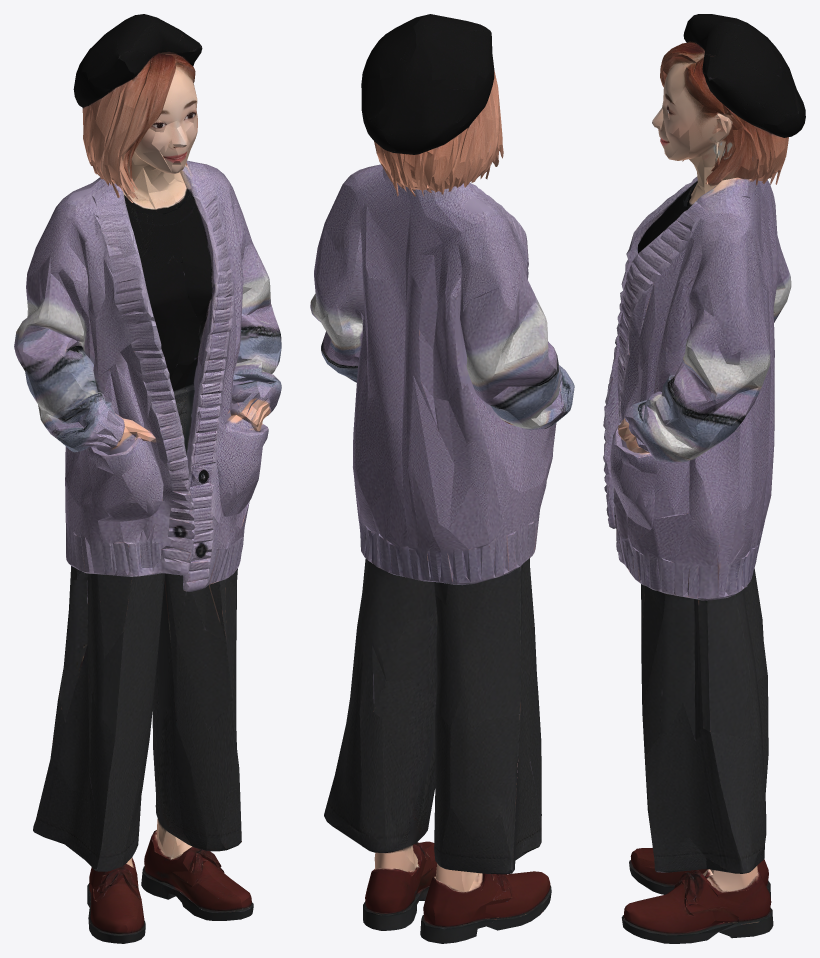
File: sora.glb
3 views of the same model, side by side, from view 1: azimuth 30°, elevation 25°; view 2: azimuth 150°, elevation 25°; view 3: azimuth 270°, elevation 25° (orthographic). The views are drawn at different scales.
Size of the model in its own units: 0.5477 by 1.9 by 0.3921.
Materials: 1 (1 with a texture image).
